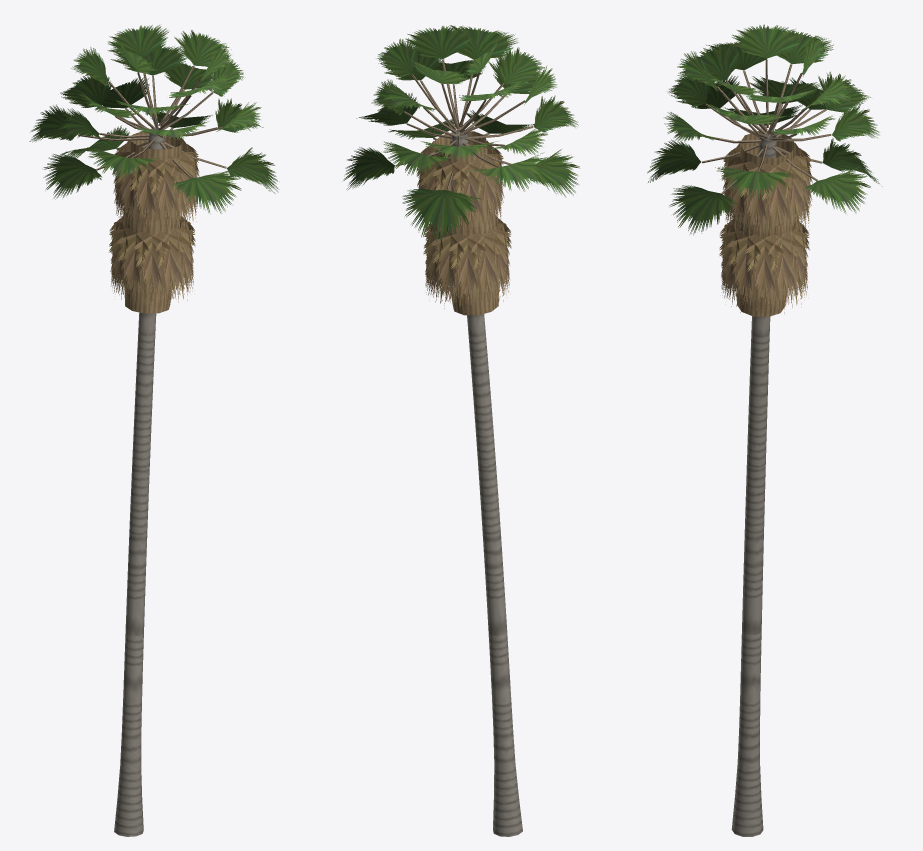
The model's file is veg_fan_palm_a.fbx.
The picture shows the model from 3 angles, left to right: view 1: azimuth 30°, elevation 25°; view 2: azimuth 150°, elevation 25°; view 3: azimuth 270°, elevation 25°; orthographic projection. The views are drawn at different scales.
Parts seen in each view (by area): view 1: veg_fan_palm_a_LOD0; view 2: veg_fan_palm_a_LOD0; view 3: veg_fan_palm_a_LOD0.
Part boxes in pixels (x1=…): veg_fan_palm_a_LOD0: x1=29, y1=25, x2=279, y2=836; veg_fan_palm_a_LOD0: x1=342, y1=25, x2=579, y2=836; veg_fan_palm_a_LOD0: x1=647, y1=24, x2=882, y2=836.
Size of what is drawn, in the model's own units: 5.7 by 17.45 by 5.31.
2 materials, 2 textured.
